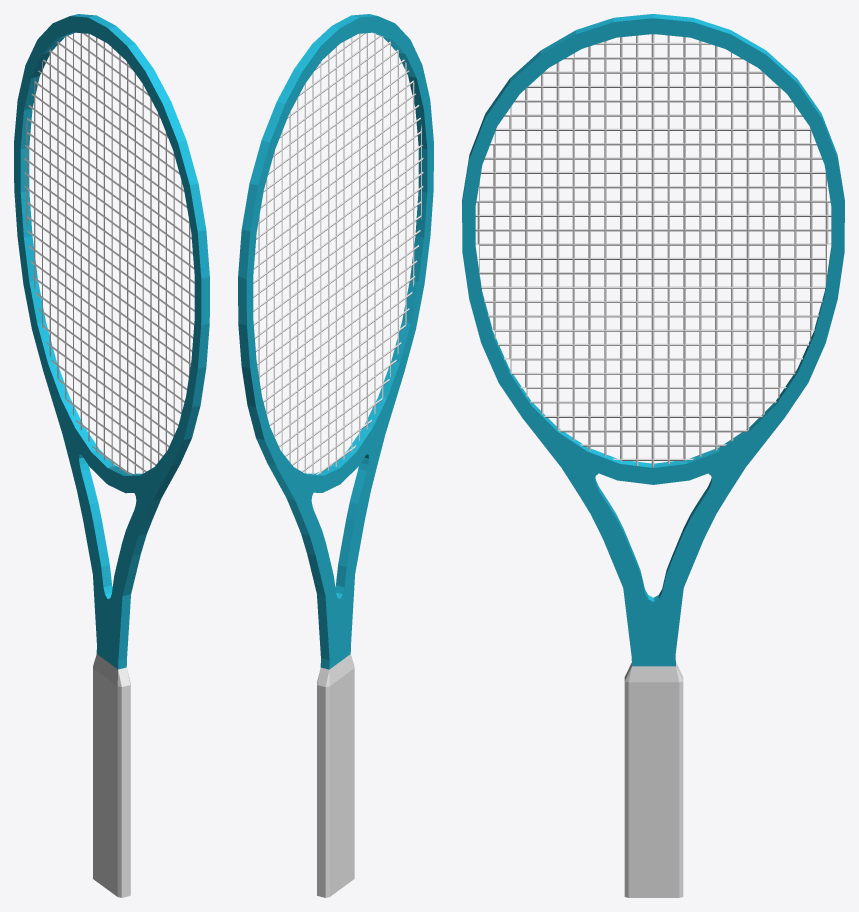
The model's file is racket_blue.glb.
3 renders of one model, left to right at view 1: azimuth 30°, elevation 25°; view 2: azimuth 150°, elevation 25°; view 3: azimuth 270°, elevation 25°, orthographic. The views are drawn at different scales.
Visible parts, largest first — view 1: Plane; view 2: Plane; view 3: Plane.
Part boxes in pixels (x1=…): Plane: x1=14, y1=14, x2=209, y2=897; Plane: x1=238, y1=14, x2=433, y2=897; Plane: x1=462, y1=14, x2=844, y2=897.
Bounding box in the file's own units: 0.1207 × 7.66 × 3.02.
